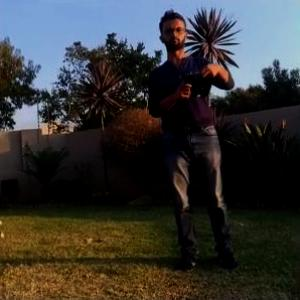follow: (147, 4, 249, 279)
